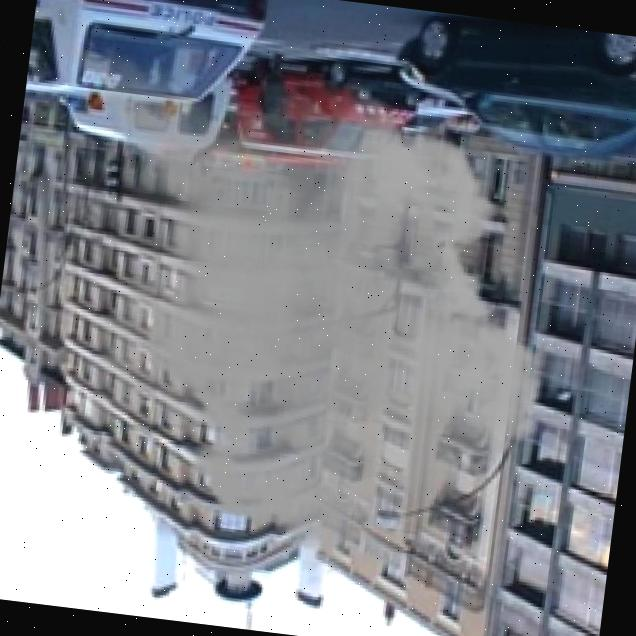smoke: (0, 25, 592, 614)
